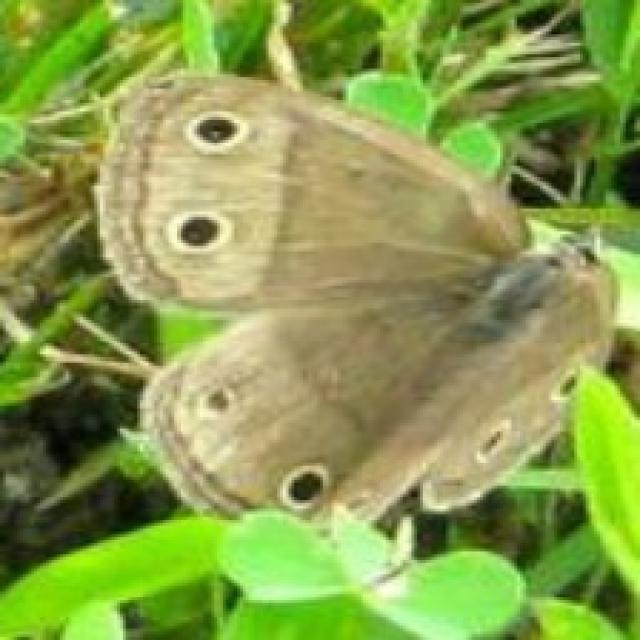butterfly: (77, 63, 620, 548)
